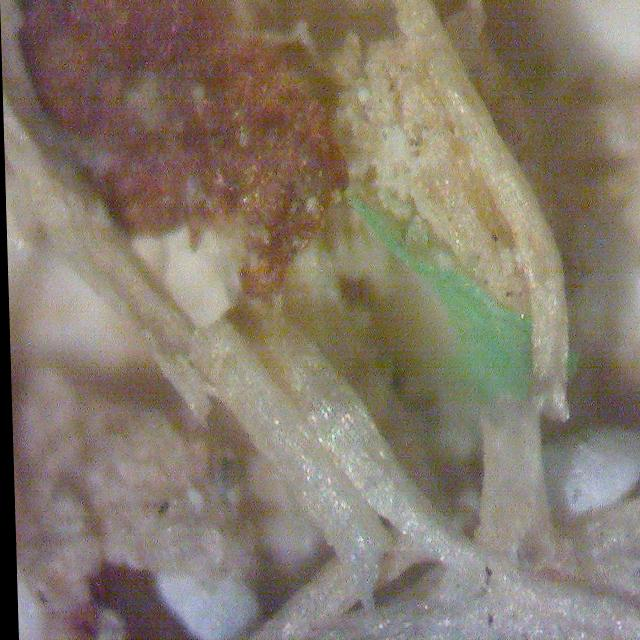microplastic: (350, 200, 530, 398)
